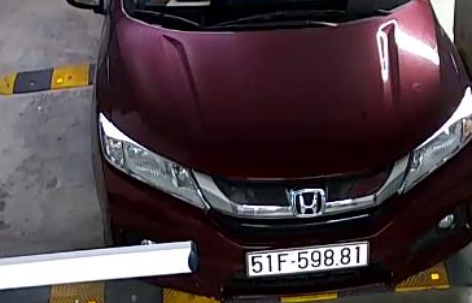plate: (241, 231, 373, 282)
